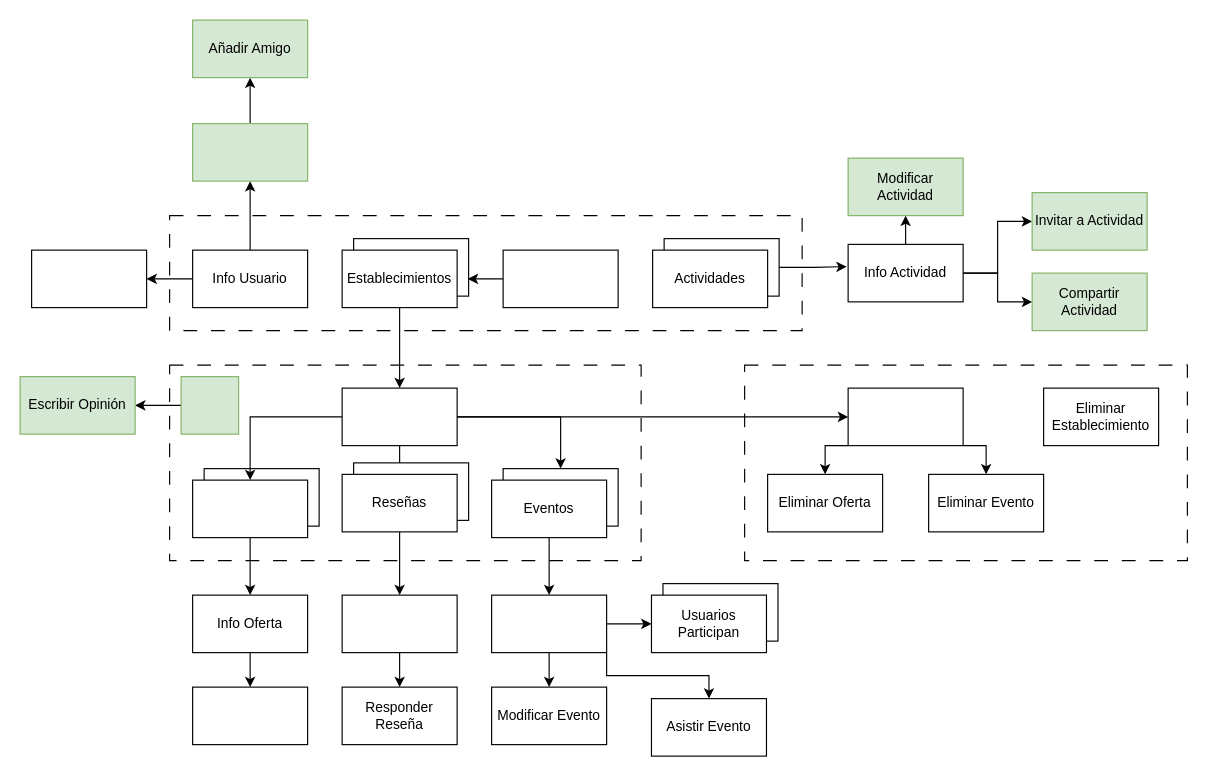
The diagram is 1208 pixels wide and 776 high, and some of its shapes have lost their labels. The box of each missing label's shape, as (x1, y1, x2, y2) in pixels:
Buscar Establecimientos: (502, 249, 618, 308)
Crear Reseña: (180, 375, 239, 434)
Info Establecimiento: (341, 387, 457, 446)
Info Evento: (490, 594, 607, 653)
Info Reseña: (341, 594, 457, 653)
Info Social Seguidos y Seguidores: (191, 122, 308, 181)
Modificar Establecimiento: (847, 387, 963, 446)
Modificar Oferta: (191, 686, 308, 745)
Modificar Usuario: (30, 249, 147, 308)
Ofertas: (191, 479, 308, 538)
